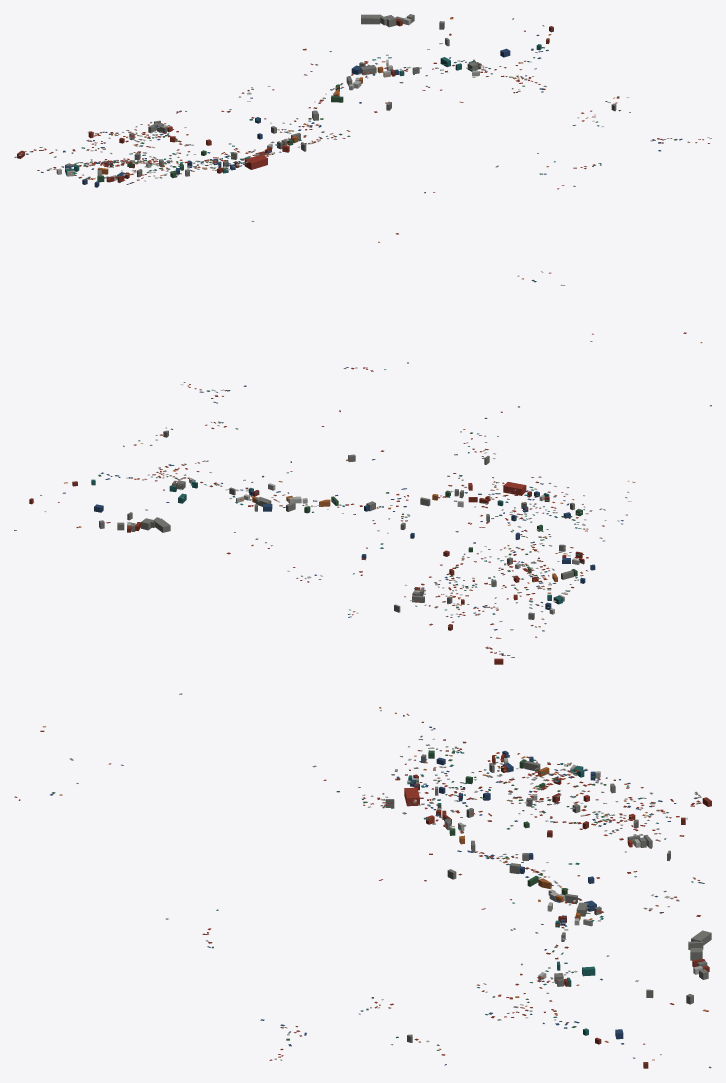
Rendered from far-14-13681-7432.a9cdd171.glb.
3 views of the same model, one above another, from view 1: azimuth 30°, elevation 25°; view 2: azimuth 150°, elevation 25°; view 3: azimuth 270°, elevation 25° (orthographic). The views are drawn at different scales.
Size of the model in its own units: 2359 by 603 by 2334.
